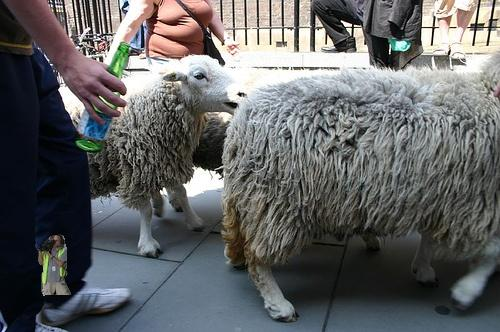tampered: (39, 235, 71, 296)
